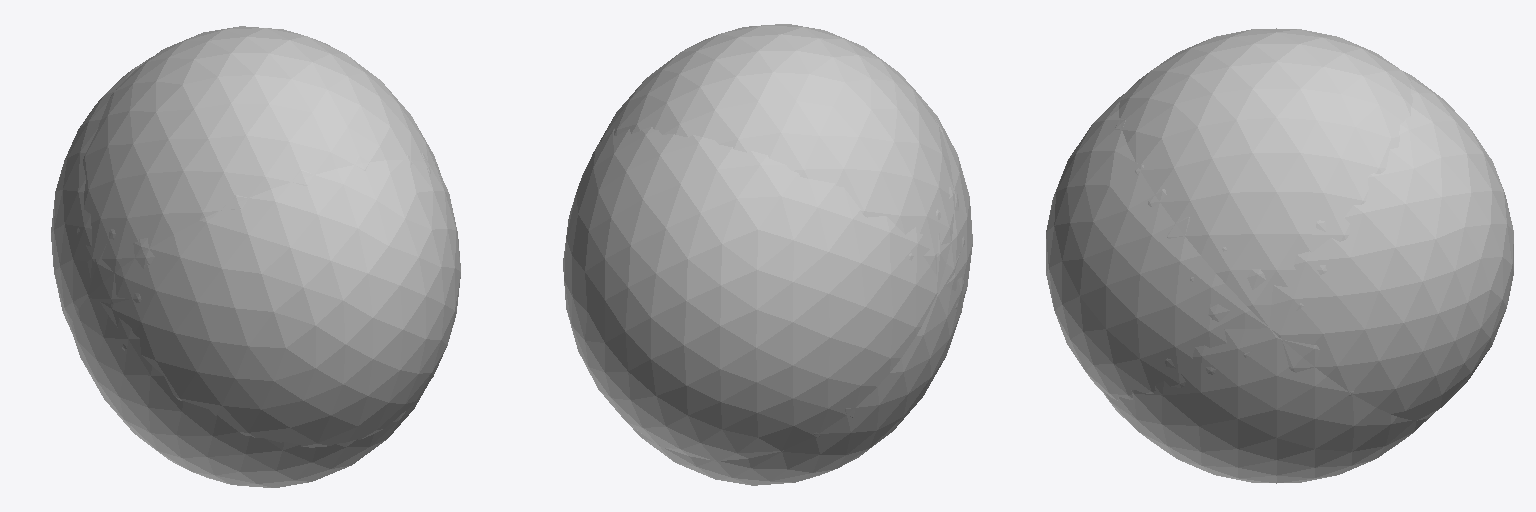
File: sky.obj
3 renders of one model, left to right at view 1: azimuth 30°, elevation 25°; view 2: azimuth 150°, elevation 25°; view 3: azimuth 270°, elevation 25°, orthographic.
Parts seen in each view (by area): view 1: hdri-ca-sky.obj.003, hdri-ca-sky.obj.001; view 2: hdri-ca-sky.obj.003, hdri-ca-sky.obj.001; view 3: hdri-ca-sky.obj.003, hdri-ca-sky.obj.001.
Part boxes in pixels (bbox=[...]): hdri-ca-sky.obj.003: bbox=[51, 57, 460, 447]; hdri-ca-sky.obj.001: bbox=[71, 26, 442, 487]; hdri-ca-sky.obj.003: bbox=[563, 88, 972, 461]; hdri-ca-sky.obj.001: bbox=[592, 24, 964, 485]; hdri-ca-sky.obj.003: bbox=[1046, 71, 1513, 421]; hdri-ca-sky.obj.001: bbox=[1104, 28, 1432, 483].
Size of the model in its own units: 33128 by 39878 by 39878.